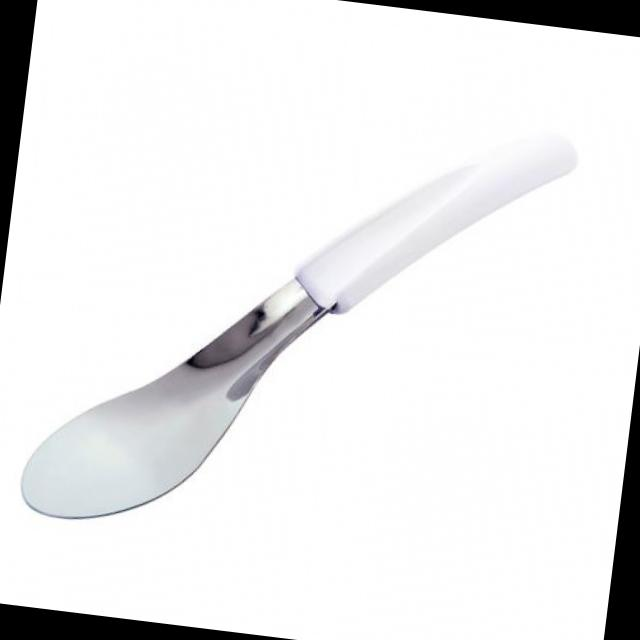spoon: (7, 68, 583, 594)
